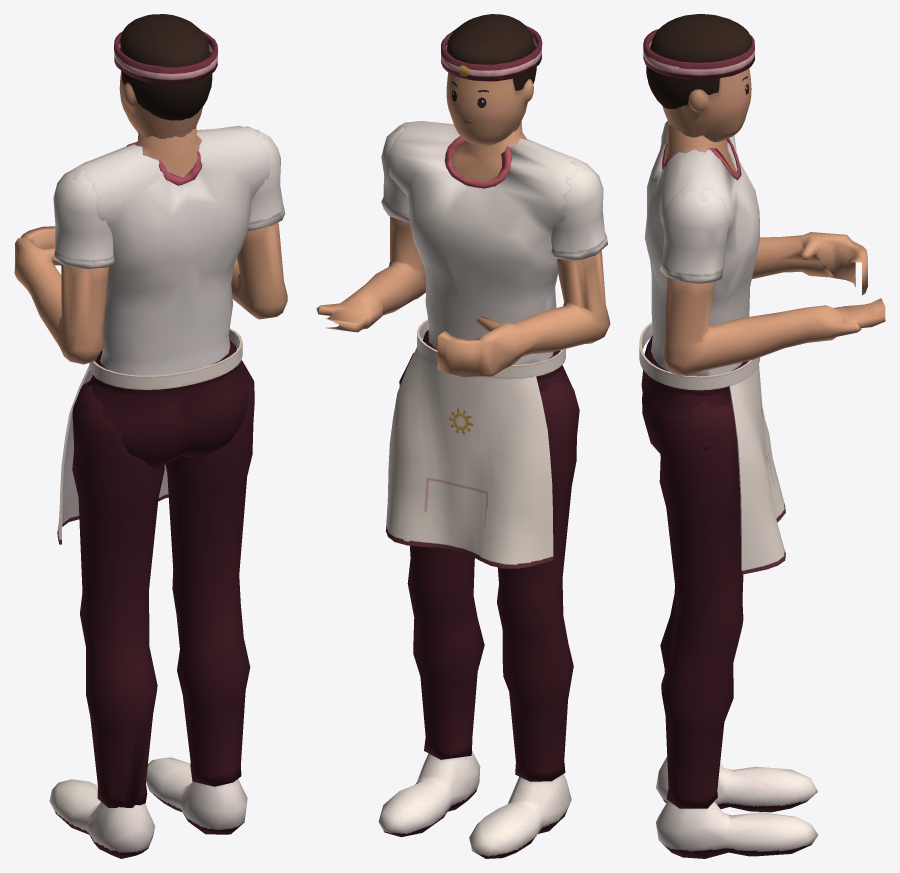
File: npc_visor.glb
3 renders of one model, left to right at view 1: azimuth 30°, elevation 25°; view 2: azimuth 150°, elevation 25°; view 3: azimuth 270°, elevation 25°, orthographic. The views are drawn at different scales.
Visible parts, largest first — view 1: Torso_Top, LegL_Pants, LegR_Pants, Torso_Hips, ArmL_Skin, Head_Hair, LegL_Shoe, LegR_Shoe, ArmL_Sleeve, Torso_Apron, ArmR_Skin, Head_Acc (+3 smaller); view 2: Torso_Apron, Torso_Top, LegL_Pants, LegR_Pants, ArmL_Skin, ArmR_Skin, LegR_Shoe, LegL_Shoe, Head_Skin, ArmL_Sleeve, Head_Hair, Head_Acc (+4 smaller); view 3: LegR_Pants, Torso_Top, ArmR_Skin, Torso_Apron, LegR_Shoe, Head_Hair, ArmR_Sleeve, ArmL_Skin, LegL_Shoe, Head_Skin, Torso_Hips, Head_Acc (+2 smaller).
Boxes of the visible parts, bbox=[...] form: Torso_Top: bbox=[68, 125, 269, 375]; LegL_Pants: bbox=[72, 381, 164, 807]; LegR_Pants: bbox=[165, 360, 254, 786]; Torso_Hips: bbox=[85, 340, 249, 468]; ArmL_Skin: bbox=[14, 226, 108, 364]; Head_Hair: bbox=[120, 14, 212, 120]; LegL_Shoe: bbox=[49, 779, 155, 858]; LegR_Shoe: bbox=[146, 757, 247, 834]; ArmL_Sleeve: bbox=[53, 169, 115, 268]; Torso_Apron: bbox=[57, 328, 242, 544]; ArmR_Skin: bbox=[231, 222, 287, 319]; Head_Acc: bbox=[114, 30, 217, 84]; Torso_Apron: bbox=[386, 319, 565, 568]; Torso_Top: bbox=[385, 121, 585, 364]; LegL_Pants: bbox=[497, 381, 579, 781]; LegR_Pants: bbox=[399, 353, 484, 759]; ArmL_Skin: bbox=[437, 250, 610, 377]; ArmR_Skin: bbox=[316, 216, 426, 332]; LegR_Shoe: bbox=[378, 751, 480, 837]; LegL_Shoe: bbox=[469, 774, 571, 858]; Head_Skin: bbox=[446, 72, 533, 145]; ArmL_Sleeve: bbox=[551, 162, 607, 260]; Head_Hair: bbox=[447, 14, 536, 90]; Head_Acc: bbox=[441, 26, 542, 81]; LegR_Pants: bbox=[659, 399, 743, 808]; Torso_Top: bbox=[644, 121, 759, 376]; ArmR_Skin: bbox=[662, 277, 885, 375]; Torso_Apron: bbox=[639, 322, 785, 574]; LegR_Shoe: bbox=[656, 800, 818, 858]; Head_Hair: bbox=[646, 14, 751, 108]; ArmR_Sleeve: bbox=[659, 187, 730, 283]; ArmL_Skin: bbox=[752, 232, 867, 295]; LegL_Shoe: bbox=[656, 756, 817, 812]; Head_Skin: bbox=[662, 68, 751, 141]; Torso_Hips: bbox=[641, 335, 748, 452]; Head_Acc: bbox=[643, 29, 754, 79].
Size of the model in its own units: 0.4986 by 1.74 by 0.4798.
Materials: 5 (5 with a texture image).
